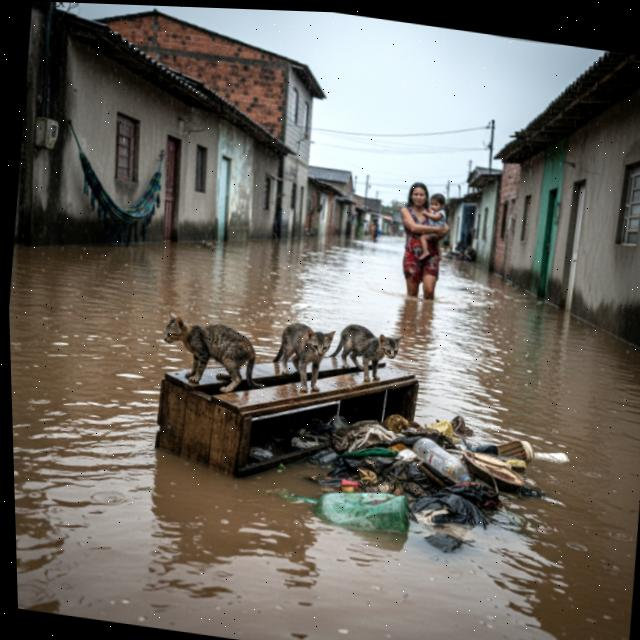cat: (155, 304, 268, 394), (260, 309, 332, 400), (332, 316, 403, 385)
civilian: (384, 174, 463, 304), (405, 187, 454, 269)
